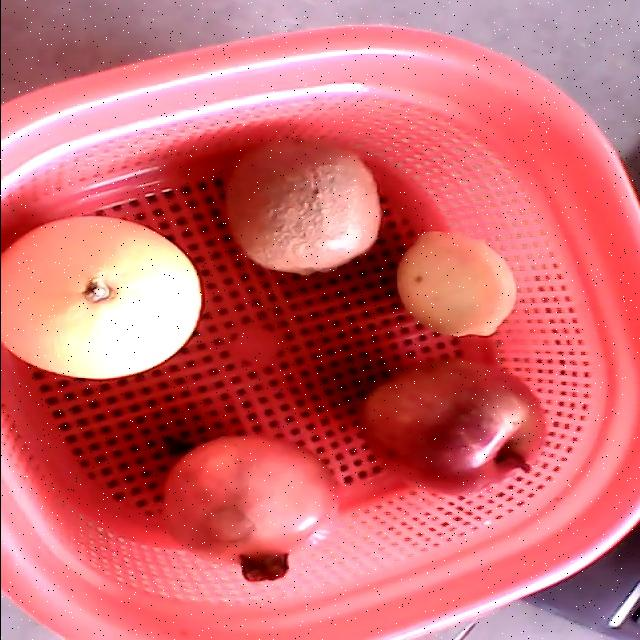apple: (359, 360, 546, 500)
kiwi: (225, 138, 381, 276)
lemon: (396, 230, 517, 337)
orange: (1, 215, 203, 378)
pomegranate: (161, 435, 338, 582)
